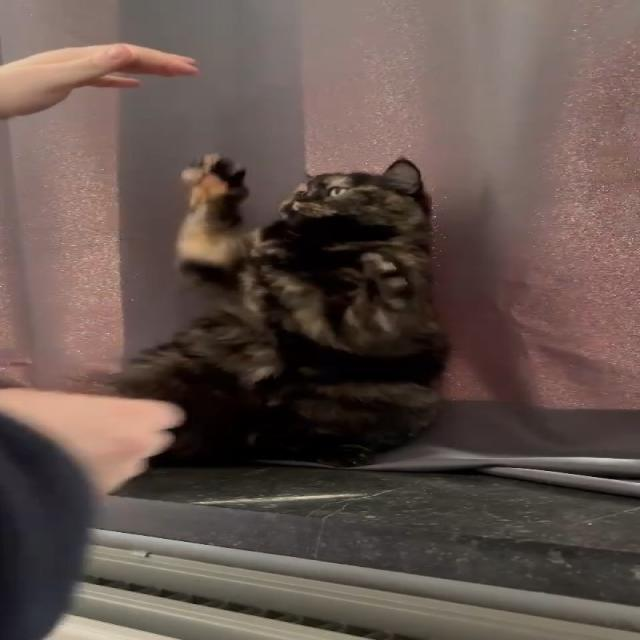authorized: (107, 155, 452, 468)
